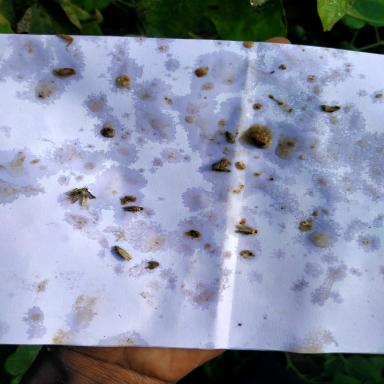pbw: (62, 184, 96, 206), (235, 222, 258, 238), (110, 244, 133, 260), (250, 133, 270, 148), (124, 204, 144, 215), (212, 162, 231, 172), (120, 195, 136, 205), (226, 130, 237, 144)
